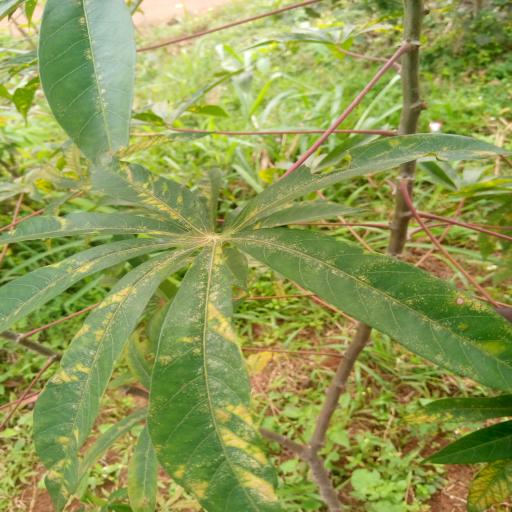Cassava_Mosaic: (0, 131, 512, 512)
